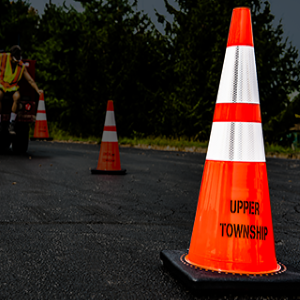traffic cone: (162, 7, 300, 297), (90, 100, 127, 176), (29, 92, 54, 142)
